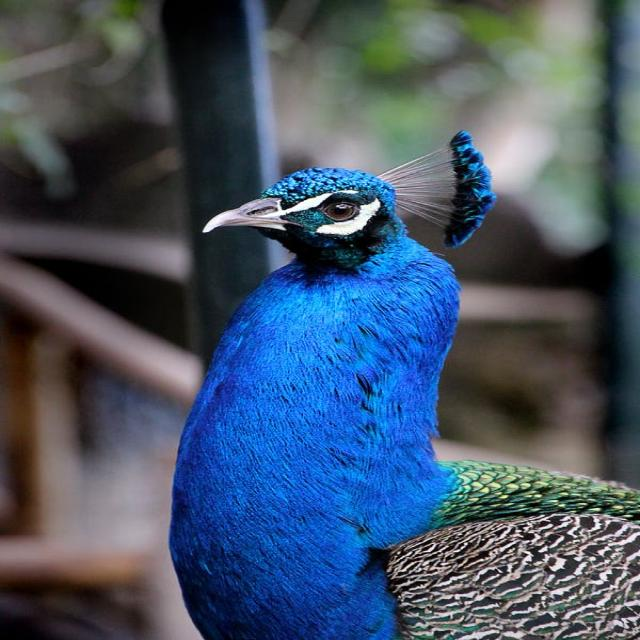peacock: (168, 127, 495, 640)
